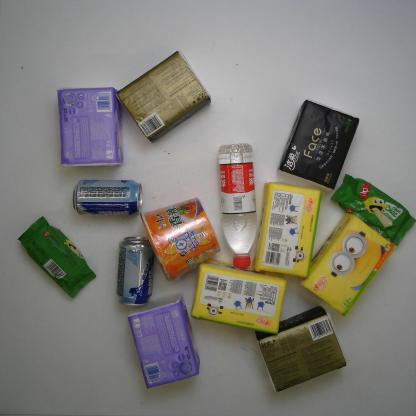Alcohol: (71, 174, 143, 217), (116, 235, 157, 307)
Dessert: (330, 168, 416, 244), (20, 216, 96, 298)
Drink: (218, 138, 259, 272)
Instant Noodles: (134, 197, 224, 281)
Tissue: (299, 207, 397, 320), (115, 48, 211, 142), (278, 96, 362, 192), (256, 306, 346, 391), (190, 260, 286, 338), (129, 295, 201, 390), (256, 182, 323, 280), (57, 86, 124, 166)
